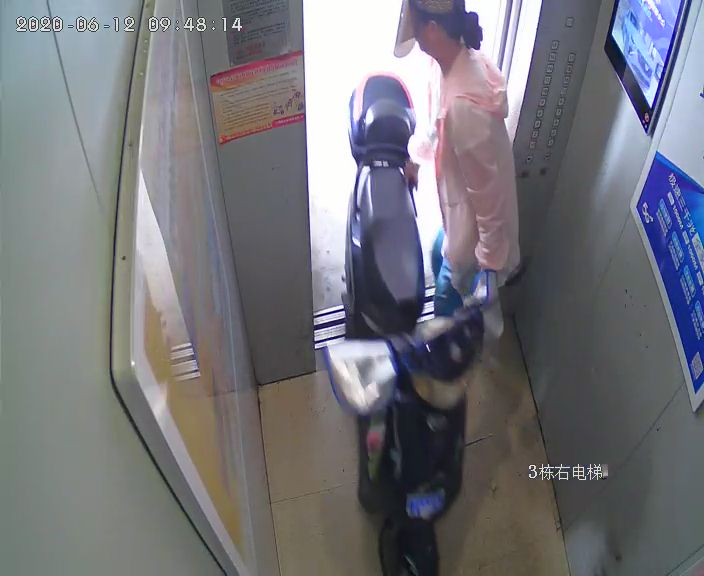Electric-bicycle: (344, 72, 489, 575)
